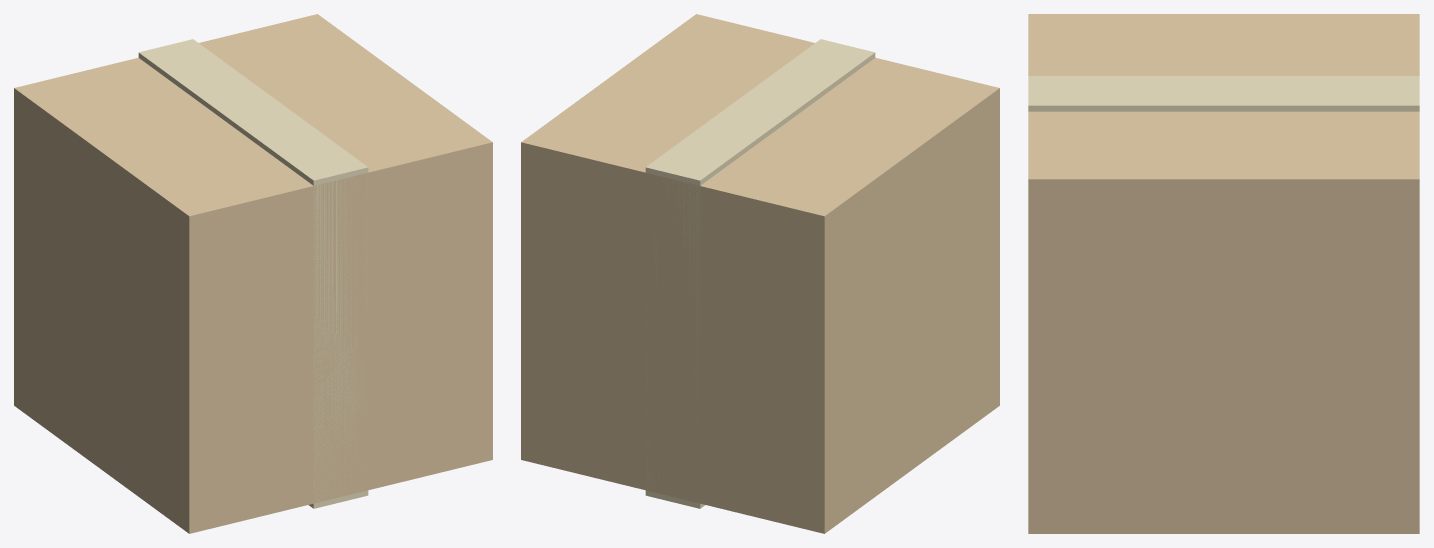
The model's file is BoxSmall.glb.
3 views of the same model, side by side, from view 1: azimuth 30°, elevation 25°; view 2: azimuth 150°, elevation 25°; view 3: azimuth 270°, elevation 25° (orthographic). The views are drawn at different scales.
Parts seen in each view (by area): view 1: Box, Tape; view 2: Box, Tape; view 3: Box, Tape.
Boxes of the visible parts, x1,y1,x2,y2 form: Box: [14, 14, 492, 533]; Tape: [138, 39, 368, 508]; Box: [521, 14, 999, 533]; Tape: [645, 39, 875, 508]; Box: [1028, 14, 1419, 533]; Tape: [1028, 76, 1419, 111].
Bounding box in the file's own units: 0.3 × 0.31 × 0.3.
